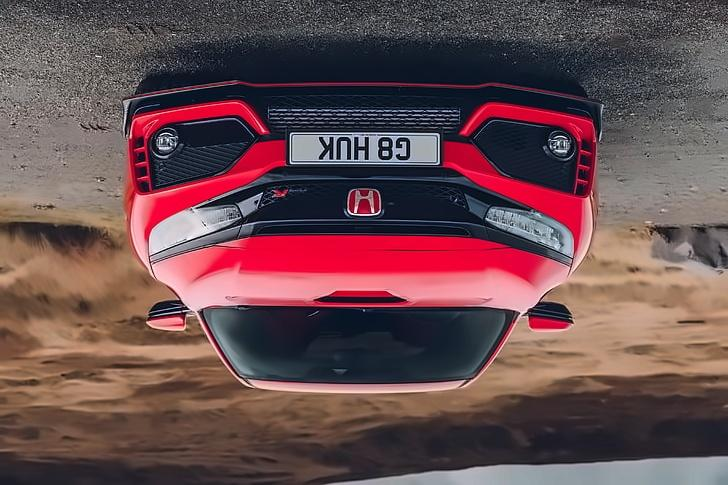Car hood: (147, 235, 572, 310)
Front bumper: (115, 77, 601, 249)
Headlight - -L-: (150, 188, 265, 264)
Headlight - -R-: (486, 200, 576, 263)
Side mirror - -L-: (147, 298, 188, 332)
Side mirror - -R-: (524, 302, 575, 333)
